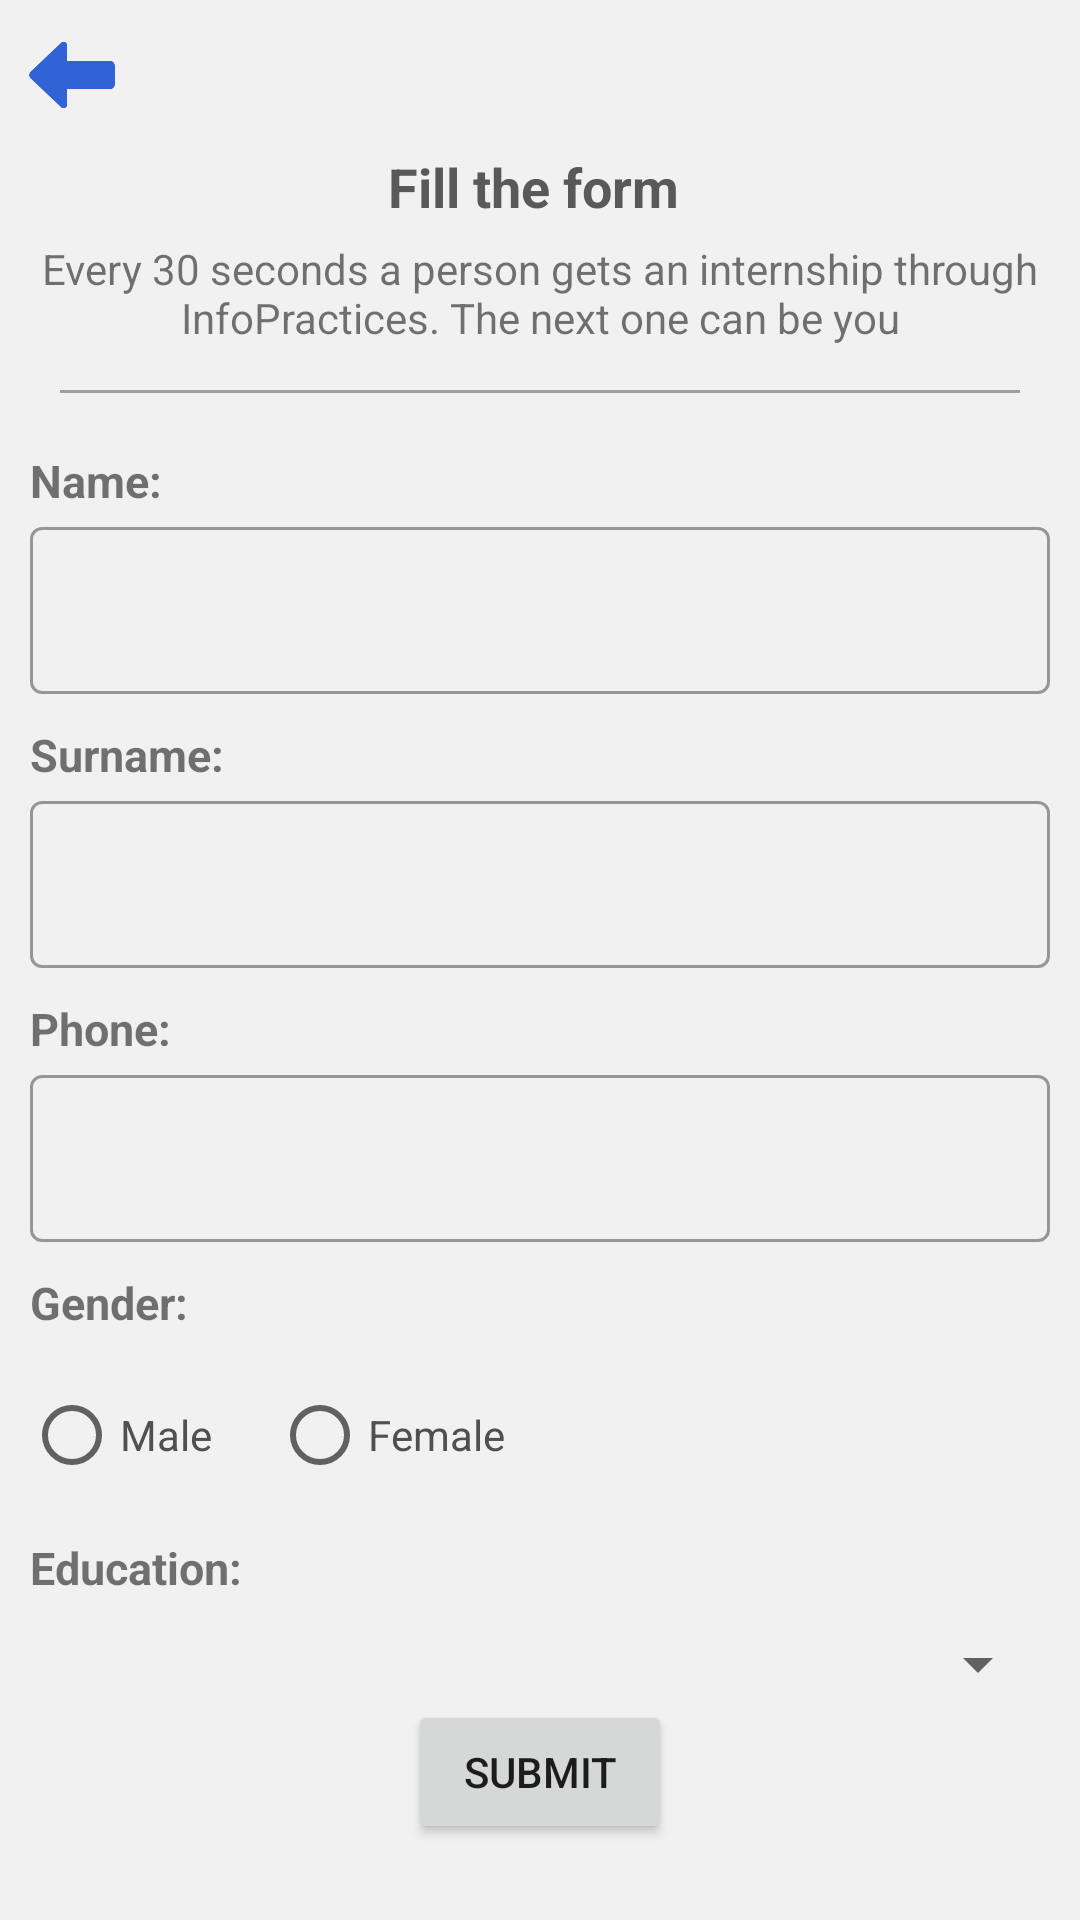

Locate icon controls on the screen. Image size 1080px x 1920px, boxes as (x1, y1, x2, y2).
flecha: (29, 42, 115, 108)
